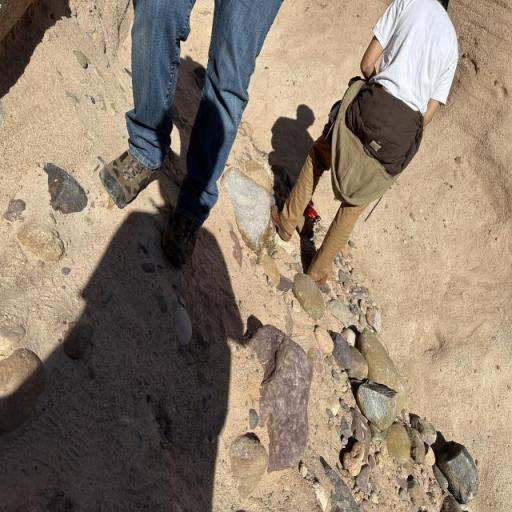bottle: (304, 202, 320, 226)
